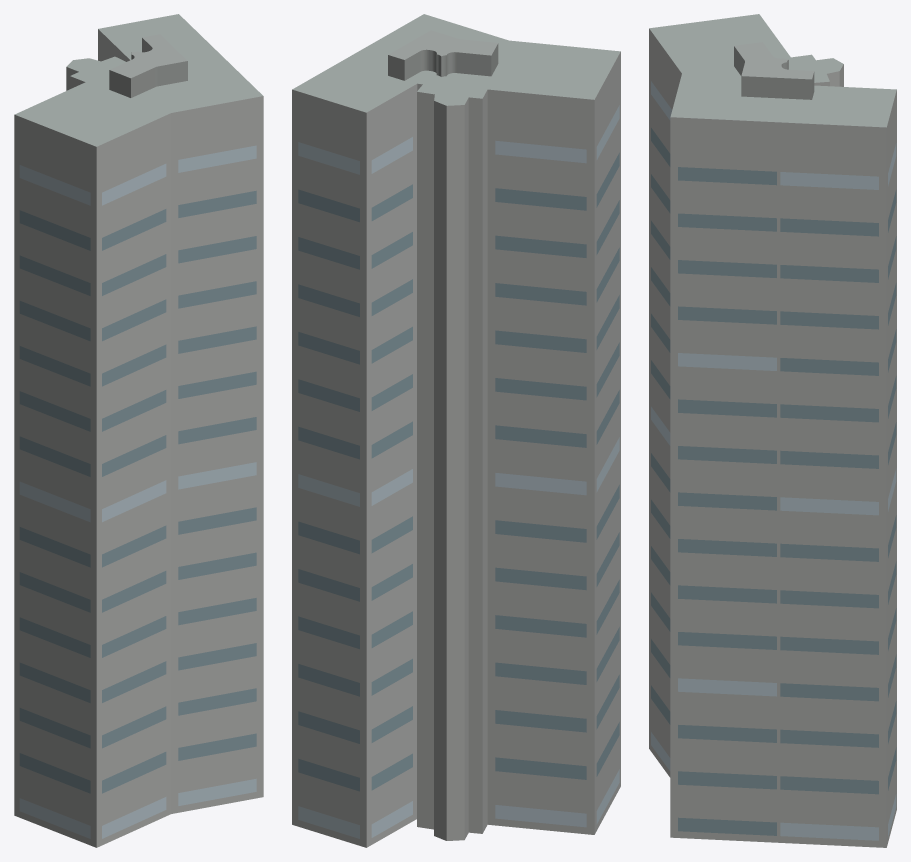
The model's file is fallback-jamsil-trizium-329.glb.
The picture shows the model from 3 angles, left to right: view 1: azimuth 30°, elevation 25°; view 2: azimuth 150°, elevation 25°; view 3: azimuth 270°, elevation 25°; orthographic projection. The views are drawn at different scales.
Visible parts, largest first — view 1: fallback-jamsil-trizium-329; view 2: fallback-jamsil-trizium-329; view 3: fallback-jamsil-trizium-329.
Part boxes in pixels (<box>): fallback-jamsil-trizium-329: <box>14,14,263,847</box>; fallback-jamsil-trizium-329: <box>292,14,620,847</box>; fallback-jamsil-trizium-329: <box>649,14,896,847</box>.
Size of the model in its own units: 28.58 by 87 by 26.37.
